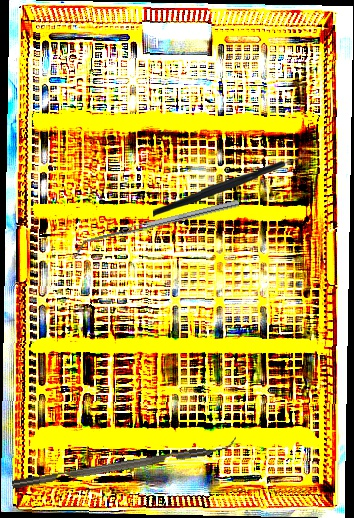Chopper: (9, 433, 239, 489), (151, 143, 308, 218)
Spatula Surgical: (73, 199, 242, 254)
